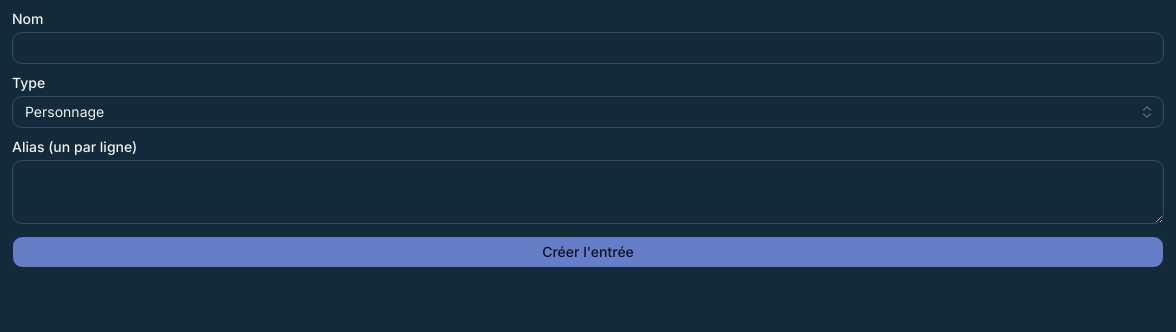
Test case: CreateEntityForm › affiche un message d'erreur relie au formulaire en cas d'echec
The image size is (1176, 332).
Type "Aeliana" into the field labelled "Nom" at (588, 48), box [12, 32, 1164, 64]
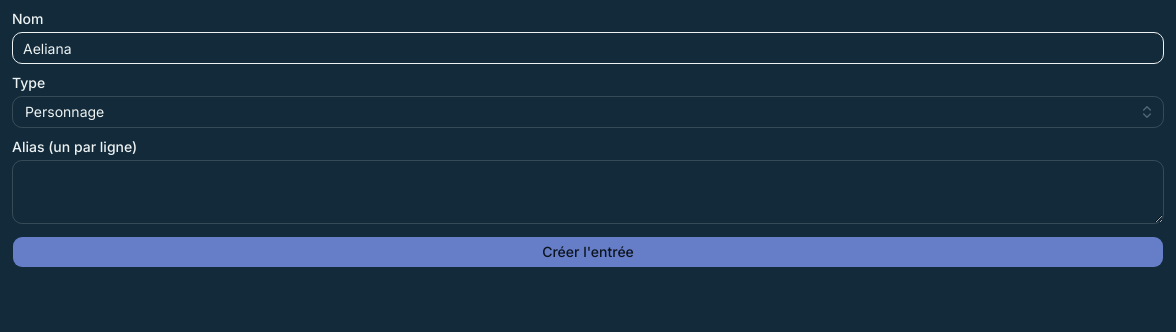
Click the button with test id "create-entity-submit" at (588, 252), box [12, 236, 1164, 268]
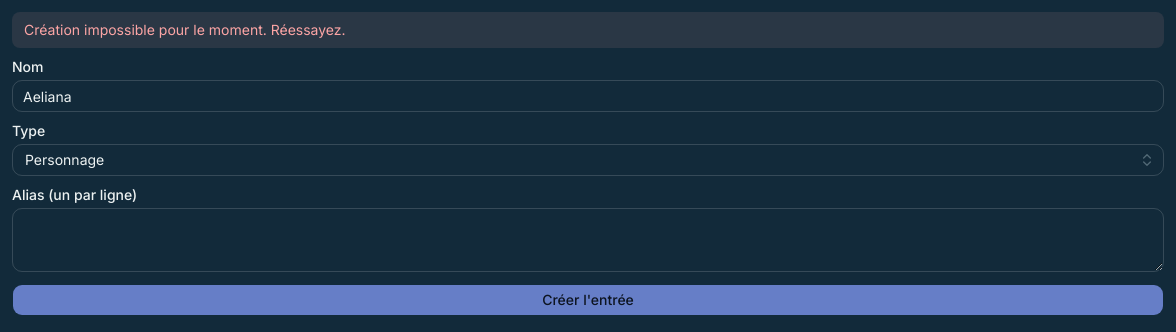
Expected: the message reads "Création impossible pour le moment. Réessayez.", [24, 21, 346, 38]
